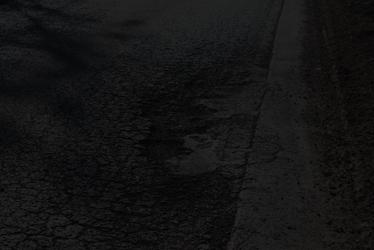pothole: (147, 35, 267, 208)
